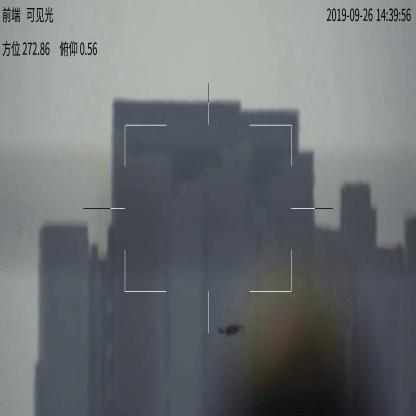uav: (213, 324, 244, 340)
